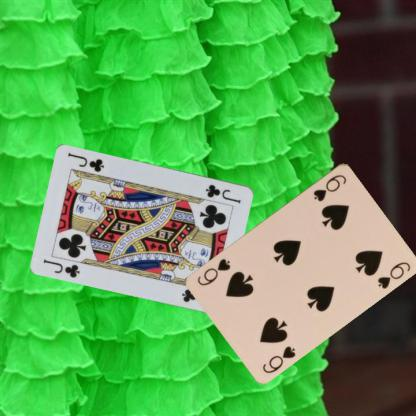6s: (311, 171, 348, 203), (260, 342, 297, 374)
Jc: (41, 256, 81, 279), (203, 182, 243, 204)
